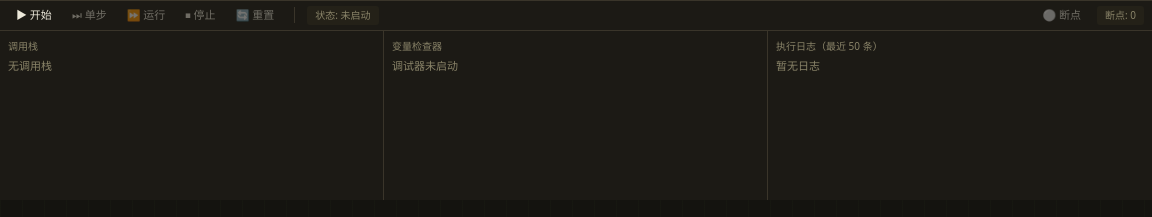
Scenario: DebuggerPanel › 4. 点击"运行"按钮触发 run，跑到结束（无断点）
The image size is (1152, 217).
Click the button with aria-label "开始调试" at (34, 15), box [8, 5, 60, 26]
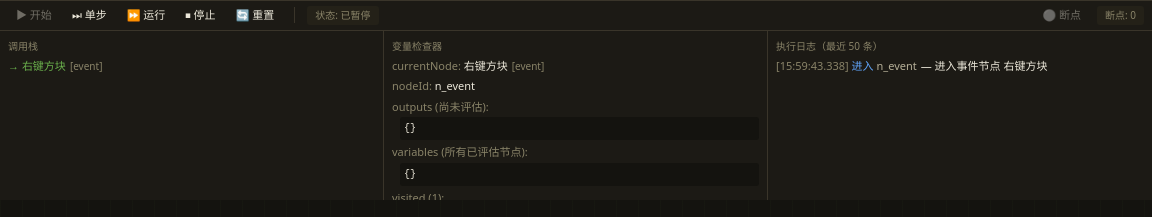
Click the button with aria-label "运行到断点" at (146, 15), box [119, 5, 173, 26]
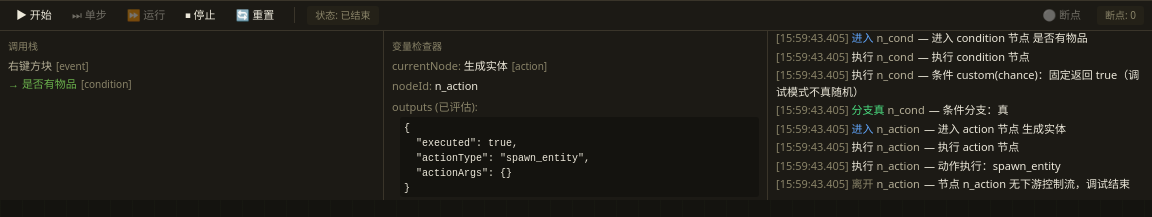
Check: the message named "调试器状态：已结束" is shown, box [307, 6, 378, 25]
